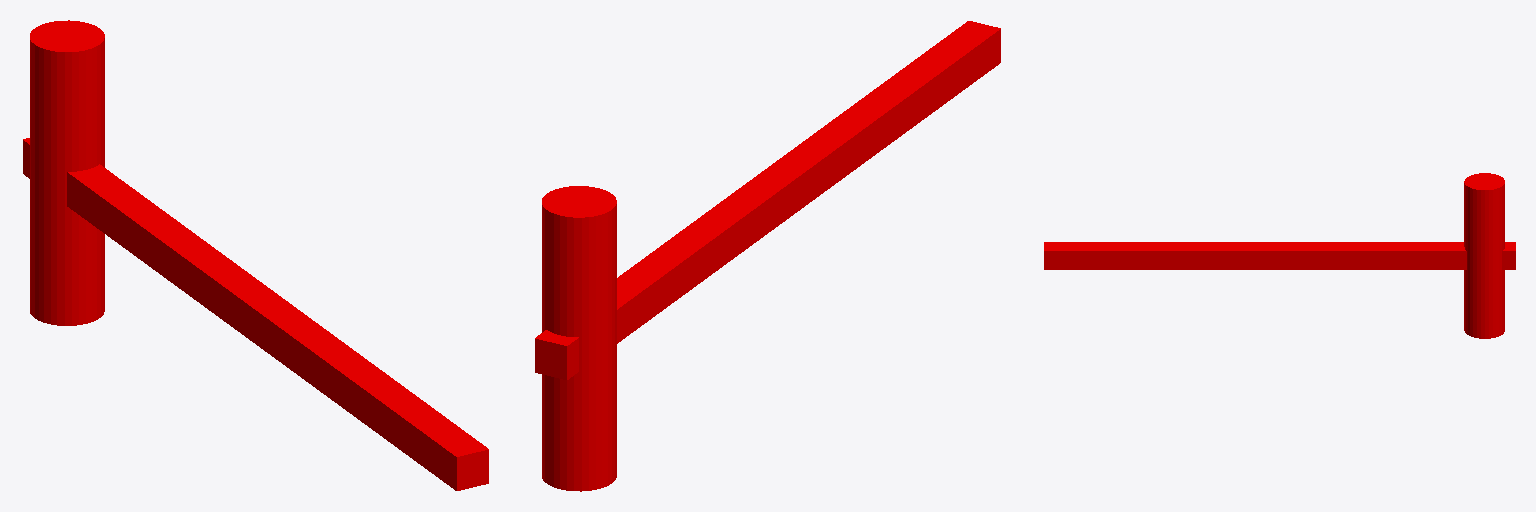
robot.urdf — barrier:
<?xml version="1.0"?>

<robot name="barrier">

    <material name="red">
        <color rgba="1 0 0 1"/>
    </material>

    <!--Definition of the static cylinder as a pole-->   

    <link name="post">

        <inertial>
            <origin rpy="0 0 0" xyz="0 0 0.1"/>
            <mass value="100000.0"/>
            <inertia ixx="1.0" ixy="0.0" ixz="0.0"
                               iyy="1.0" iyz="0.0" 
                                         izz="1.0"/>
        </inertial>

        <visual>        
            <origin rpy="0 0 0" xyz="0 0 0.4"/>
            <geometry>
                <cylinder length="0.8" radius="0.1"/>
            </geometry>
            <material name="red"/>
        </visual>

        <collision>
            <origin rpy="0 0 0" xyz="0 0 0.4"/>
            <geometry>
                <cylinder length="0.8" radius="0.1"/>
            </geometry>
        </collision>

    </link>

    <!--Definition of the mobile barrier-->

    <link name="mobile_barrier">

        <inertial>
            <origin rpy="0 0 0" xyz="0 0.3 0.8"/>
            <mass value="5.0"/>
            <inertia ixx="1.0" ixy="0.0" ixz="0.0"
                               iyy="1.0" iyz="0.0" 
                                         izz="1.0"/>
        </inertial>

        <visual>        
            <origin rpy="0 0 0" xyz="0.0 -1 0.2"/>
            <geometry>
                <box size="0.1 2.3 0.1"/>
            </geometry>
            <material name="red"/>
        </visual>

        <collision>
            <origin rpy="0 0 0" xyz="0.0 -1 0.2"/>
            <geometry>
                <box size="0.1 2.3 0.1"/>
            </geometry>
        </collision>

    </link>

    <!--Definition of the joint between the static cylinder as a post and the mobile barrier-->

    <joint name="body_to_arm" type="continuous">
        <parent link="post"/>
        <child link="mobile_barrier"/>
        <dynamics damping="0.0" friction="0.0"/>
        <origin xyz="0.0 0 0.2"/>
        <axis xyz="0 0 1"/>
    </joint>

</robot>

--- Render facts (derived) ---
The picture shows the robot from 3 angles, left to right: view 1: azimuth 30°, elevation 25°; view 2: azimuth 150°, elevation 25°; view 3: azimuth 270°, elevation 25°; orthographic projection.
Model barrier with 2 links and 1 joints (1 continuous), rooted at post, posed every joint at zero.
Links seen in each view (by area): view 1: mobile_barrier, post; view 2: mobile_barrier, post; view 3: mobile_barrier, post.
Boxes of the visible links, x1,y1,x2,y2 form: mobile_barrier: [23, 138, 488, 490]; post: [30, 20, 104, 325]; mobile_barrier: [535, 21, 1000, 379]; post: [542, 186, 616, 491]; mobile_barrier: [1044, 242, 1515, 269]; post: [1464, 173, 1504, 338].
Size in the robot's own frame: 0.2 by 2.3 by 0.8 metres.
Geometry: primitives only (box / cylinder / sphere), no mesh files.